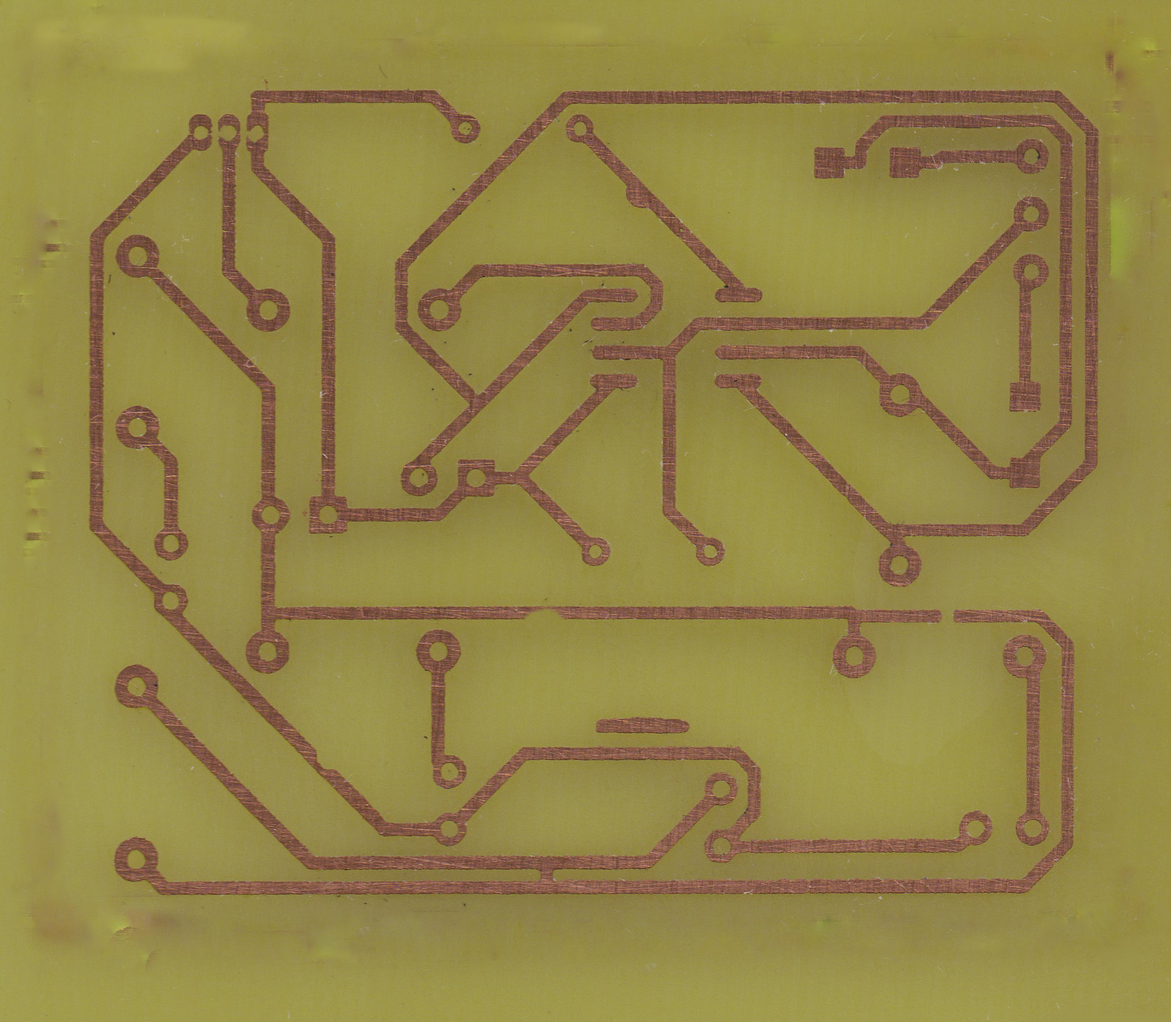missing_hole: (245, 111, 269, 153), (217, 113, 241, 150)
mouse_bite: (520, 606, 568, 623), (314, 748, 337, 774)
open_circuit: (930, 600, 964, 633)
short: (533, 855, 561, 894)
spur: (624, 184, 651, 210)
spurious_copper: (594, 716, 691, 735)
